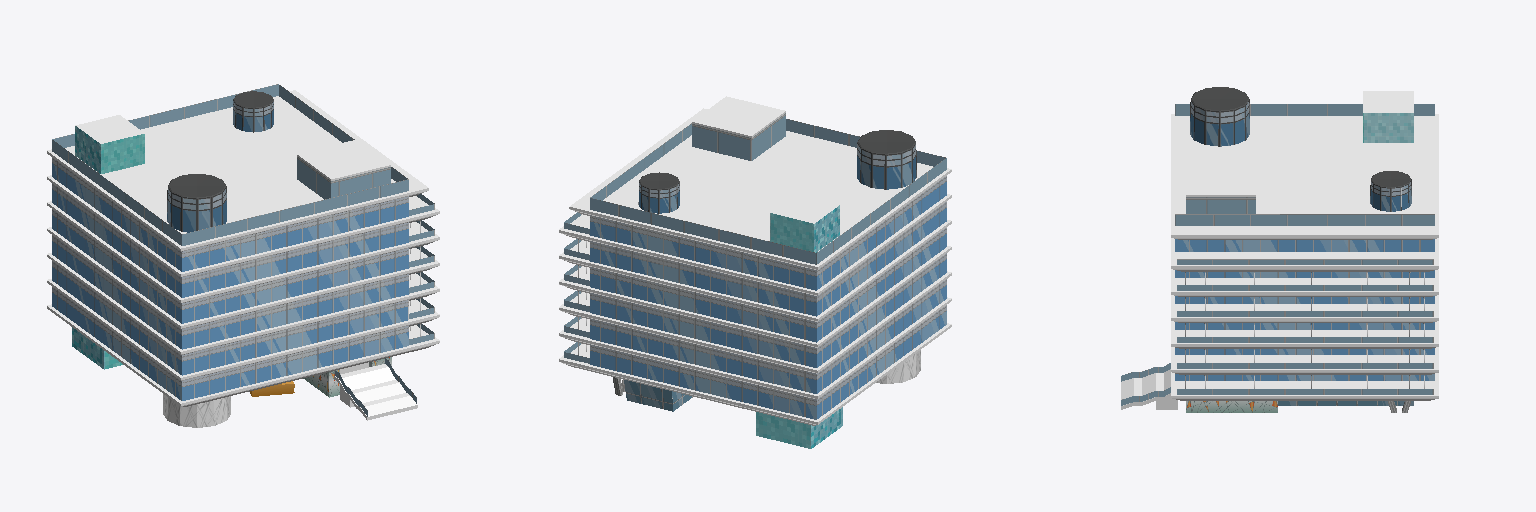
3 views of the same model, side by side, from view 1: azimuth 30°, elevation 25°; view 2: azimuth 150°, elevation 25°; view 3: azimuth 270°, elevation 25° (orthographic).
Visible parts, largest first — view 1: Library3; view 2: Library3; view 3: Library3.
Boxes of the visible parts, box(x1,y1,x2,y2) form: Library3: box(47, 84, 439, 427); Library3: box(559, 96, 951, 448); Library3: box(1121, 87, 1438, 412).
Size of the model in its own units: 263 by 221 by 280.
Materials: 1 (1 with a texture image).